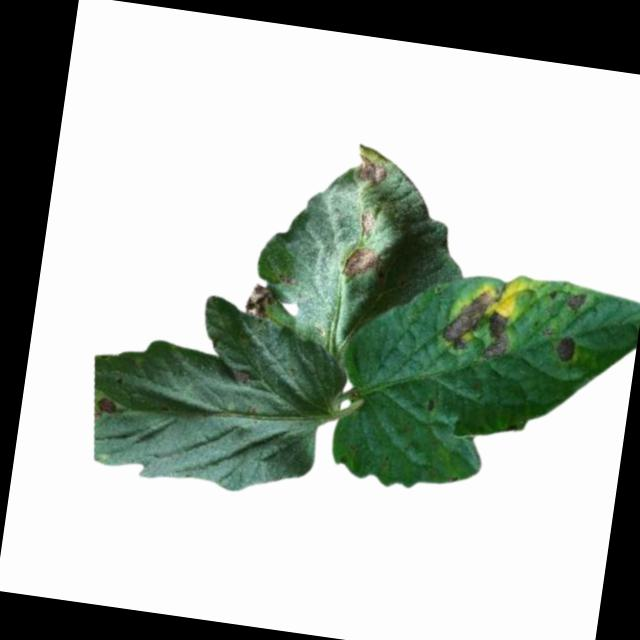Early_blight: (439, 282, 517, 364), (241, 278, 276, 322), (340, 241, 378, 281), (354, 153, 389, 186), (554, 332, 581, 365), (565, 286, 588, 318), (97, 392, 121, 418), (357, 210, 374, 239), (233, 362, 251, 386)
